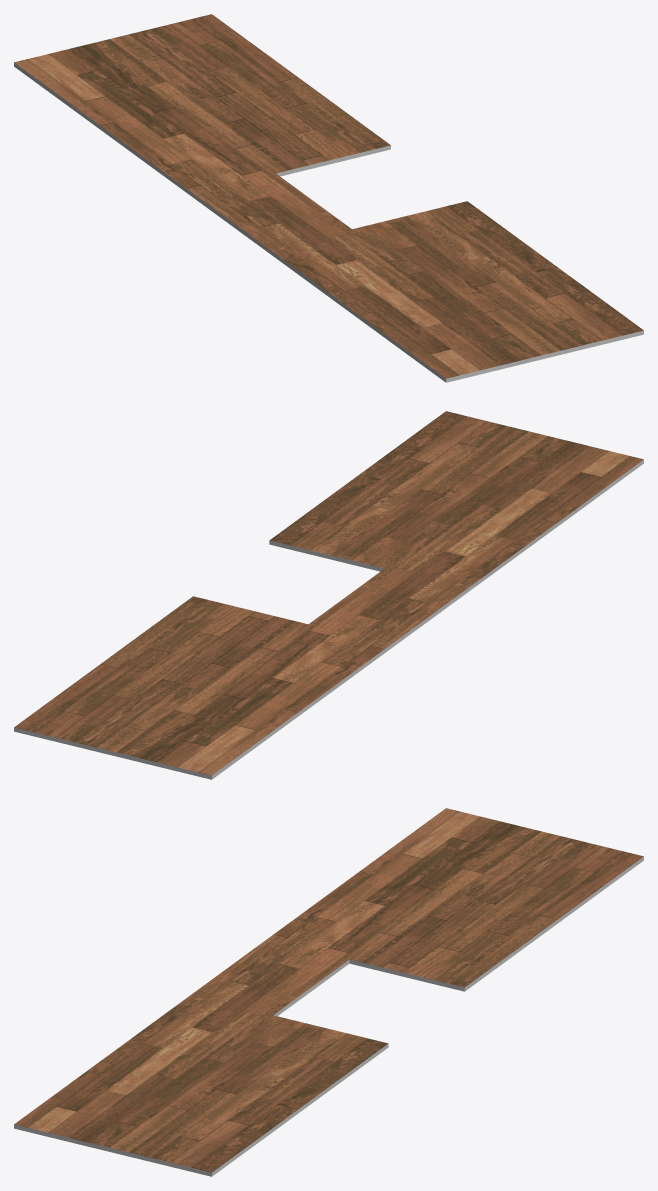
Rendered from Floor_Floor2.fbx.
3 renders of one model, top to bottom at view 1: azimuth 30°, elevation 25°; view 2: azimuth 150°, elevation 25°; view 3: azimuth 330°, elevation 25°, orthographic.
Parts seen in each view (by area): view 1: Floor2_Floor.002; view 2: Floor2_Floor.002; view 3: Floor2_Floor.002.
Part boxes in pixels (x1,y1,x2,y2): Floor2_Floor.002: (14, 14, 643, 382); Floor2_Floor.002: (14, 411, 643, 779); Floor2_Floor.002: (14, 808, 643, 1176).
Size of the model in its own units: 454 by 9.09 by 1716.
Materials: 2 (2 with a texture image).
